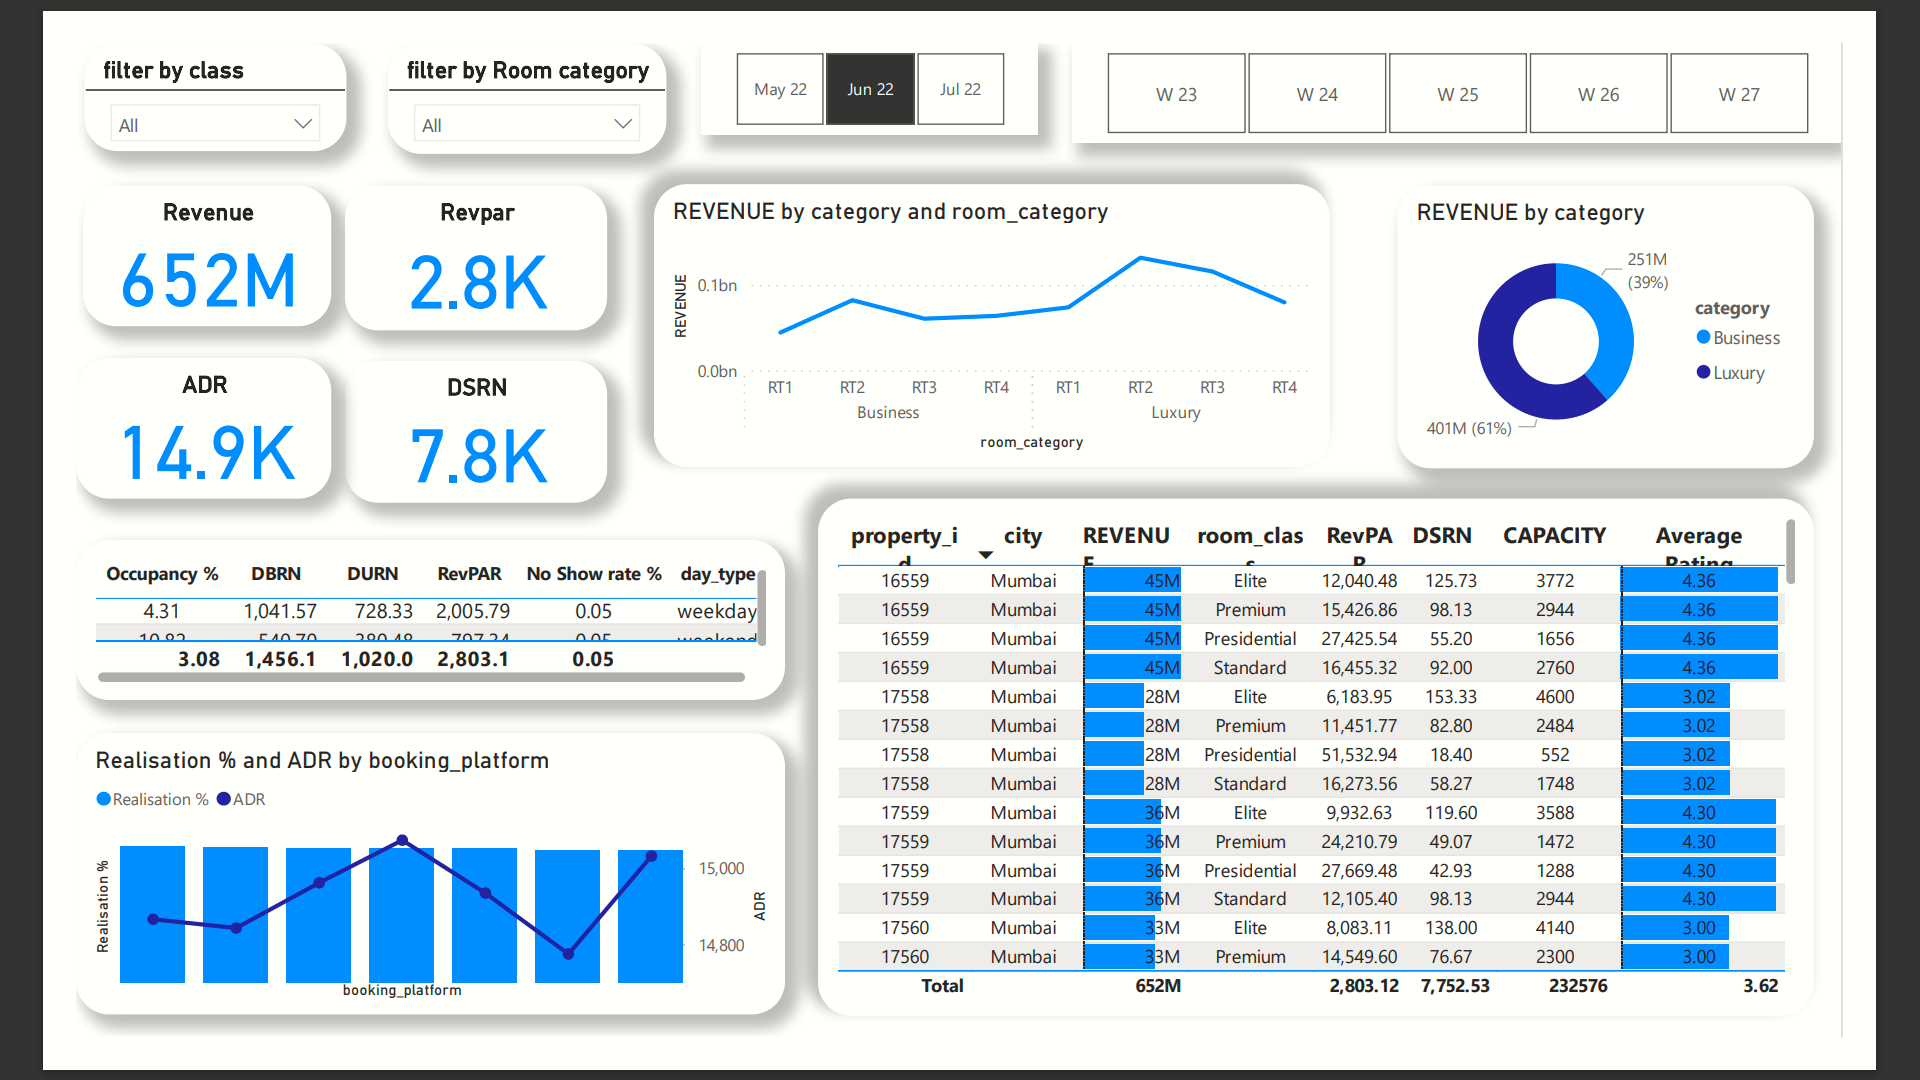

The dashboard page shown, as its layout file describes it:
{"tool":"powerbi","page":{"name":"Page 1","canvas":[1280,720],"ordinal":0},"visuals":[{"type":"tableEx","fields":{"Values":["dim_ hotels.property_id","dim_ hotels.city","key measures (2).REVENUE","dim_rooms.room_class","key measures (2).RevPAR","key measures (2).DSRN","key measures (2).CAPACITY","key measures (2).Average Rating"]},"box":[537.5,330,722.5,375],"z":0},{"type":"slicer","title":"filter by class","fields":{"Values":["dim_rooms.room_class"]},"box":[6,0,190,78],"z":1000},{"type":"slicer","title":"filter by Room category","fields":{"Values":["dim_ hotels.city"]},"box":[226,0,202,80],"z":2000},{"type":"slicer","fields":{"Values":["dim_date.week no"]},"box":[722,0,558,72],"z":3000},{"type":"slicer","fields":{"Values":["dim_date.mmm yy"]},"box":[453.4,0,243.1,65.5],"z":4000},{"type":"card","title":"Revenue","fields":{"Values":["key measures (2).REVENUE"]},"box":[5,102.5,180,102.5],"z":5000},{"type":"donutChart","fields":{"Category":["dim_ hotels.category"],"Y":["key measures (2).REVENUE"]},"box":[957.5,102.5,302.5,205],"z":6000},{"type":"card","title":"Revpar","fields":{"Values":["key measures (2).RevPAR"]},"box":[195,102.5,190,105],"z":7000},{"type":"card","title":"DSRN","fields":{"Values":["key measures (2).DSRN"]},"box":[195,230,190,102.5],"z":8000},{"type":"card","title":"ADR","fields":{"Values":["key measures (2).ADR"]},"box":[0,227.5,185,102.5],"z":9000},{"type":"lineStackedColumnComboChart","box":[0,476,274,226],"z":10000},{"type":"lineStackedColumnComboChart","fields":{"Category":["fact_bookings.booking_platform"],"Y":["key measures (2).Realisation %"],"Y2":["key measures (2).ADR"]},"box":[0,500,514,204],"z":11000},{"type":"tableEx","fields":{"Values":["key measures (2).Occupancy %","key measures (2).DBRN","key measures (2).DURN","key measures (2).RevPAR","key measures (2).No Show rate %","dim_date.day_type"]},"box":[0,360,514,116],"z":12000},{"type":"lineChart","fields":{"Category":["dim_ hotels.category","fact_bookings.room_category"],"Y":["key measures (2).REVENUE"]},"box":[419,101.7,489.7,205.2],"z":12001}]}

Visuals, with their boxes in screenshot pixels (x1, y1, x2, y2), scaled from the page's 1280x720 canvas onto the 1920x1080 screenshot:
tableEx - dim_ hotels.property_id x dim_ hotels.city: (806,495,1890,1058)
"filter by class" slicer: (9,0,294,117)
"filter by Room category" slicer: (339,0,642,120)
slicer - dim_date.week no: (1083,0,1919,108)
slicer - dim_date.mmm yy: (680,0,1045,98)
"Revenue" card: (8,154,278,308)
donutChart - dim_ hotels.category x key measures (2).REVENUE: (1436,154,1890,461)
"Revpar" card: (292,154,578,311)
"DSRN" card: (292,345,578,499)
"ADR" card: (0,341,278,495)
lineStackedColumnComboChart: (0,714,411,1053)
lineStackedColumnComboChart - fact_bookings.booking_platform x key measures (2).Realisation %: (0,750,771,1056)
tableEx - key measures (2).Occupancy % x key measures (2).DBRN: (0,540,771,714)
lineChart - dim_ hotels.category x fact_bookings.room_category: (628,153,1363,460)
